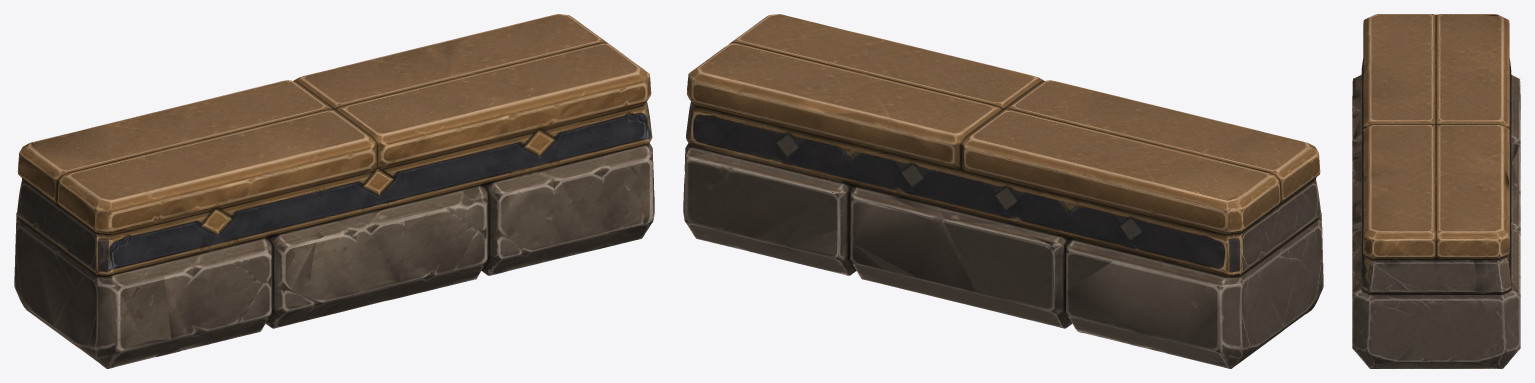
Rendered from borda-tabuleiro.fbx.
The picture shows the model from 3 angles, left to right: view 1: azimuth 30°, elevation 25°; view 2: azimuth 150°, elevation 25°; view 3: azimuth 270°, elevation 25°; orthographic projection. The views are drawn at different scales.
Parts seen in each view (by area): view 1: mesh_node; view 2: mesh_node; view 3: mesh_node.
Boxes of the visible parts, box(x1,y1,x2,y2) form: mesh_node: box(14, 14, 654, 368); mesh_node: box(683, 14, 1323, 368); mesh_node: box(1352, 14, 1520, 368).
Size of the model in its own units: 190 by 54.39 by 59.93.
1 material, 1 textured.
